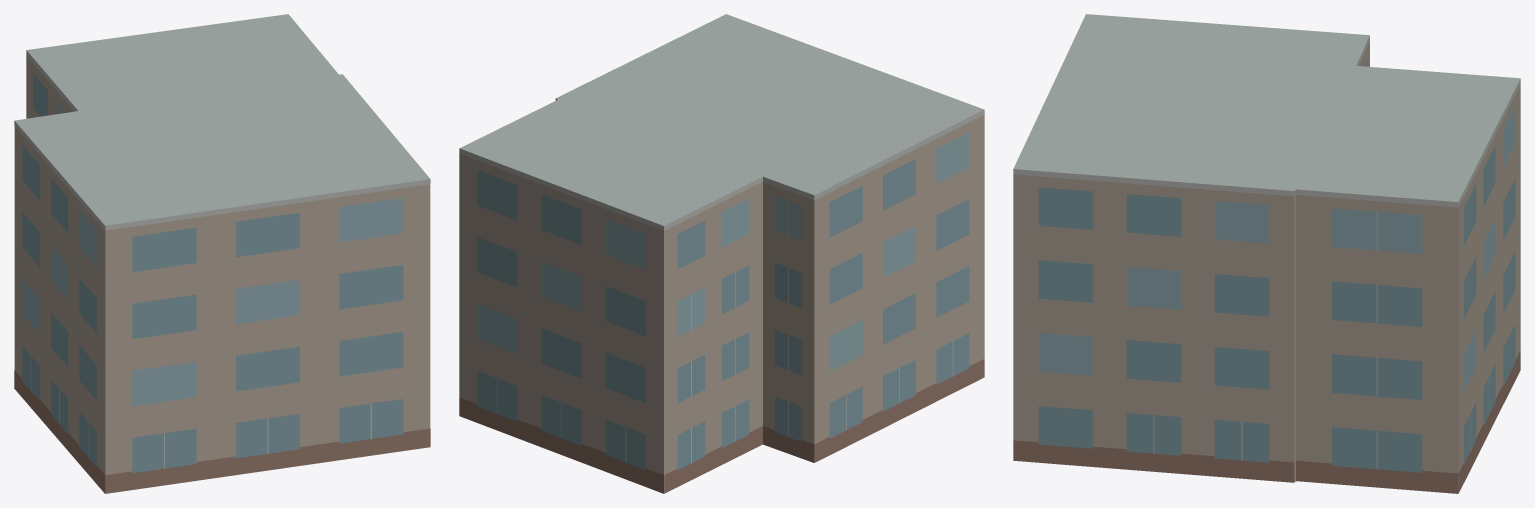
File: survey-upis-32657080.glb
3 renders of one model, left to right at view 1: azimuth 30°, elevation 25°; view 2: azimuth 150°, elevation 25°; view 3: azimuth 270°, elevation 25°, orthographic. The views are drawn at different scales.
Parts seen in each view (by area): view 1: survey-upis-32657080.tmp; view 2: survey-upis-32657080.tmp; view 3: survey-upis-32657080.tmp.
Boxes of the visible parts, x1=… form: survey-upis-32657080.tmp: x1=14, y1=14, x2=430, y2=493; survey-upis-32657080.tmp: x1=459, y1=14, x2=984, y2=493; survey-upis-32657080.tmp: x1=1013, y1=14, x2=1520, y2=493.
Bounding box in the file's own units: 18.07 × 13.05 × 20.58.
